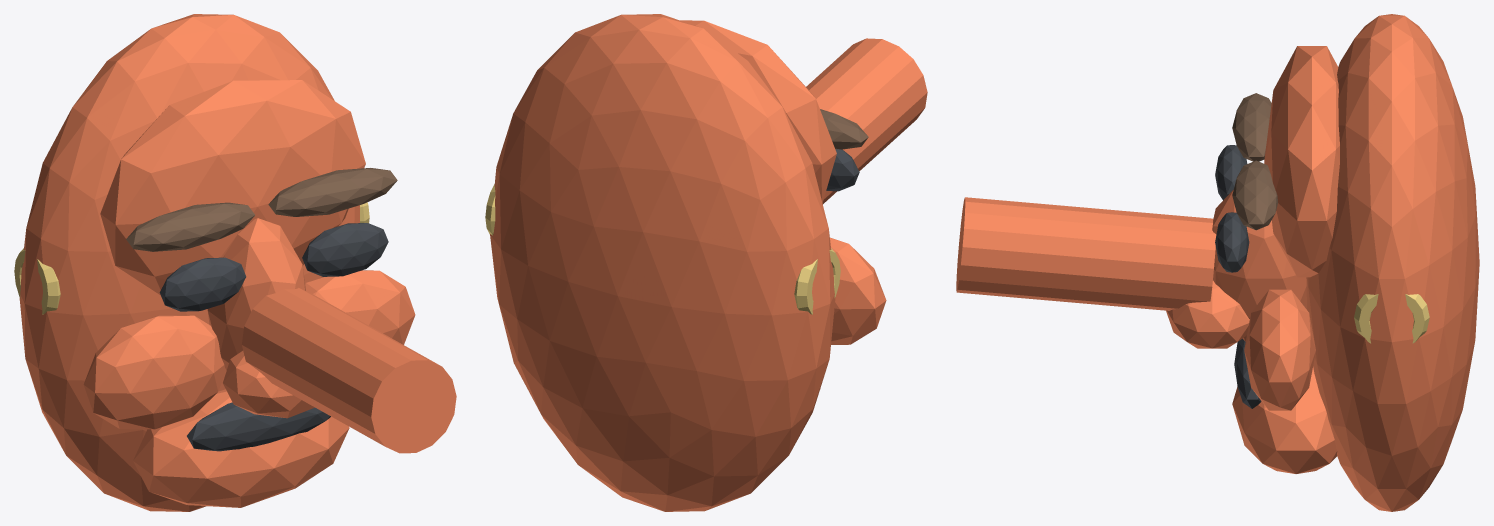
Rendered from noh_tengu_mask.glb.
3 views of the same model, side by side, from view 1: azimuth 30°, elevation 25°; view 2: azimuth 150°, elevation 25°; view 3: azimuth 270°, elevation 25° (orthographic). The views are drawn at different scales.
Visible parts, largest first — view 1: Noh hand carved 3 substantial face blank, Noh hand carved 3 sculpted forehead, Noh hand carved 3 long tengu nose, Noh hand carved 3 carved cheek, Noh hand carved 3 chin, Noh hand carved 3 nose bridge, Noh hand carved 3 carved cheek.001, Noh hand carved 3 raised eyebrow, Noh hand carved 3 raised eyebrow.001, Noh hand carved 3 dark mouth, Noh hand carved 3 hollow eye, Noh hand carved 3 hollow eye.001 (+2 smaller); view 2: Noh hand carved 3 substantial face blank, Noh hand carved 3 long tengu nose, Noh hand carved 3 sculpted forehead, Noh hand carved 3 carved cheek, Noh hand carved 3 ear hook, Noh hand carved 3 raised eyebrow, Noh hand carved 3 hollow eye; view 3: Noh hand carved 3 substantial face blank, Noh hand carved 3 long tengu nose, Noh hand carved 3 sculpted forehead, Noh hand carved 3 carved cheek.001, Noh hand carved 3 chin, Noh hand carved 3 nose bridge, Noh hand carved 3 nasal tip, Noh hand carved 3 raised eyebrow.001, Noh hand carved 3 raised eyebrow, Noh hand carved 3 hollow eye.001, Noh hand carved 3 ear hook.001, Noh hand carved 3 hollow eye (+1 smaller).
Boxes of the visible parts, x1,y1,x2,y2 form: Noh hand carved 3 substantial face blank: [19, 14, 359, 511]; Noh hand carved 3 sculpted forehead: [100, 80, 365, 295]; Noh hand carved 3 long tengu nose: [242, 288, 456, 453]; Noh hand carved 3 carved cheek: [83, 315, 225, 429]; Noh hand carved 3 chin: [133, 389, 349, 507]; Noh hand carved 3 nose bridge: [207, 218, 305, 371]; Noh hand carved 3 carved cheek.001: [305, 270, 415, 344]; Noh hand carved 3 raised eyebrow: [126, 202, 254, 251]; Noh hand carved 3 raised eyebrow.001: [268, 168, 397, 216]; Noh hand carved 3 dark mouth: [187, 402, 330, 451]; Noh hand carved 3 hollow eye: [159, 257, 246, 311]; Noh hand carved 3 hollow eye.001: [302, 223, 388, 276]; Noh hand carved 3 substantial face blank: [490, 14, 835, 511]; Noh hand carved 3 long tengu nose: [806, 38, 927, 204]; Noh hand carved 3 sculpted forehead: [680, 20, 836, 202]; Noh hand carved 3 carved cheek: [830, 237, 886, 344]; Noh hand carved 3 ear hook: [794, 248, 840, 314]; Noh hand carved 3 raised eyebrow: [820, 109, 868, 149]; Noh hand carved 3 hollow eye: [826, 149, 859, 191]; Noh hand carved 3 substantial face blank: [1306, 14, 1479, 511]; Noh hand carved 3 long tengu nose: [956, 197, 1216, 310]; Noh hand carved 3 sculpted forehead: [1264, 46, 1339, 277]; Noh hand carved 3 carved cheek.001: [1244, 289, 1315, 410]; Noh hand carved 3 chin: [1232, 367, 1337, 473]; Noh hand carved 3 nose bridge: [1212, 190, 1306, 341]; Noh hand carved 3 nasal tip: [1166, 280, 1249, 348]; Noh hand carved 3 raised eyebrow.001: [1232, 160, 1277, 230]; Noh hand carved 3 raised eyebrow: [1232, 93, 1271, 161]; Noh hand carved 3 hollow eye.001: [1215, 212, 1249, 272]; Noh hand carved 3 ear hook.001: [1354, 294, 1429, 343]; Noh hand carved 3 hollow eye: [1215, 145, 1247, 200].
Bounding box in the file's own units: 1.39 × 1.95 × 1.94.
